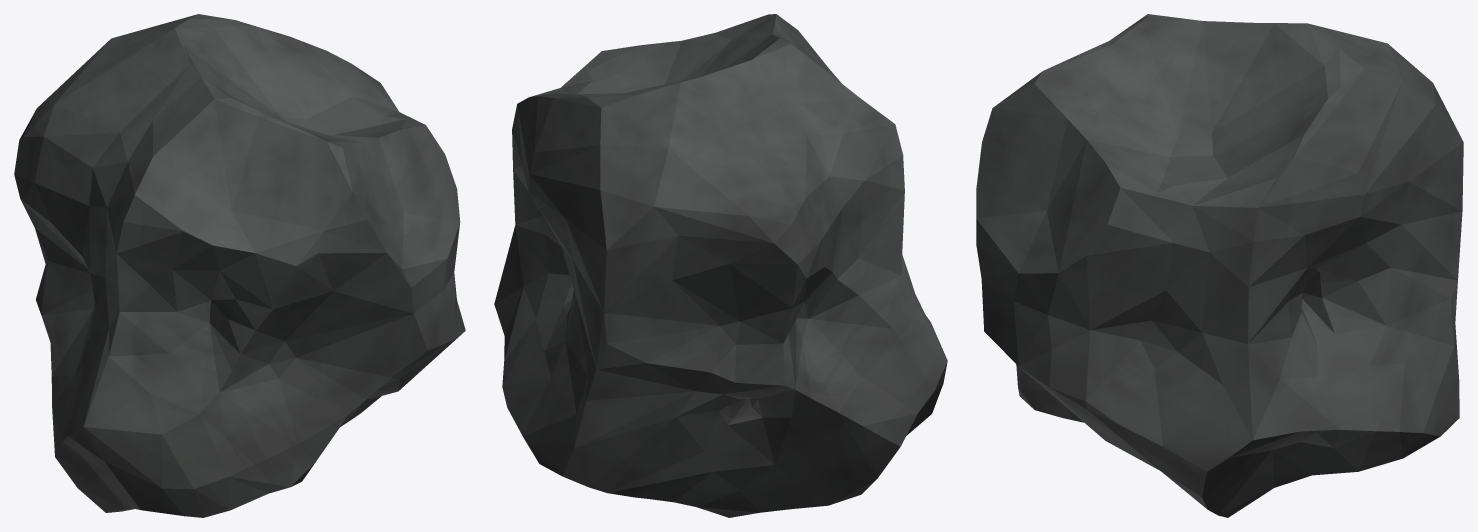
File: rock_1.fbx
3 renders of one model, left to right at view 1: azimuth 30°, elevation 25°; view 2: azimuth 150°, elevation 25°; view 3: azimuth 270°, elevation 25°, orthographic. The views are drawn at different scales.
Visible parts, largest first — view 1: rock_1; view 2: rock_1; view 3: rock_1.
Part boxes in pixels (<box>): rock_1: <box>14,14,465,517</box>; rock_1: <box>494,14,947,517</box>; rock_1: <box>976,14,1463,517</box>.
Bounding box in the file's own units: 463 × 456 × 499.
